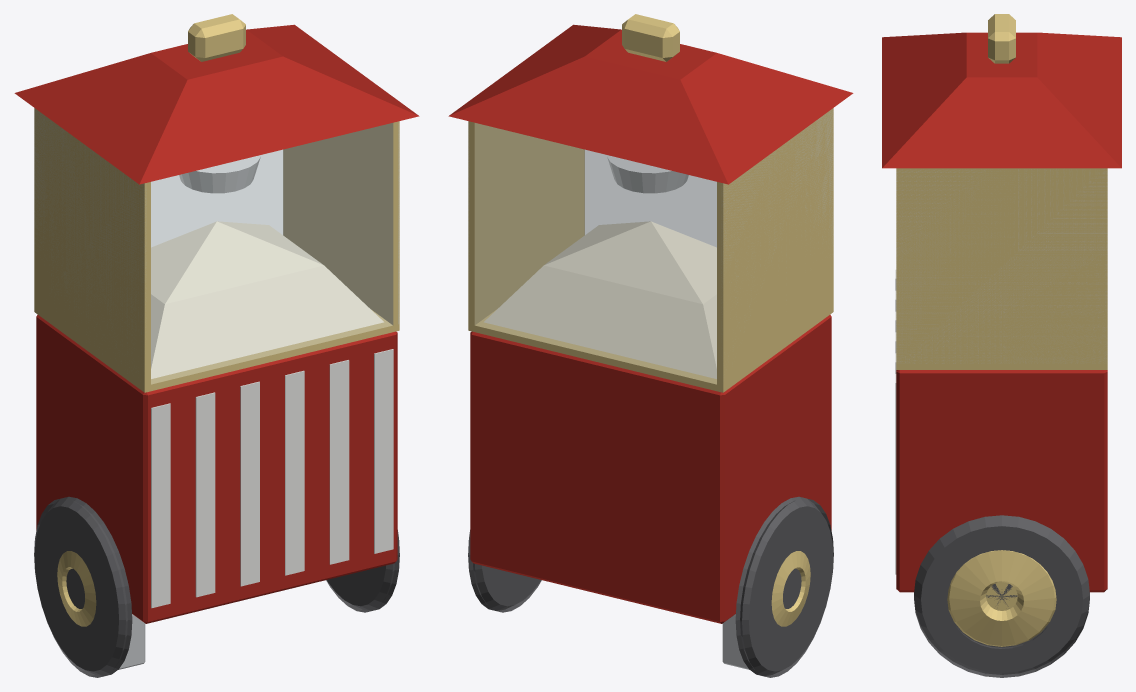
The model's file is carrinho_pipoca.glb.
The picture shows the model from 3 angles, left to right: view 1: azimuth 30°, elevation 25°; view 2: azimuth 150°, elevation 25°; view 3: azimuth 270°, elevation 25°; orthographic projection. The views are drawn at different scales.
Visible parts, largest first — view 1: carrinho_pipoca_tinta_vermelha, carrinho_pipoca_vidro_prateleira, carrinho_pipoca_ouro_hotel, carrinho_pipoca_tinta_branca, carrinho_pipoca_pipoca, carrinho_pipoca_borracha, carrinho_pipoca_inox, carrinho_pipoca_aco; view 2: carrinho_pipoca_tinta_vermelha, carrinho_pipoca_vidro_prateleira, carrinho_pipoca_ouro_hotel, carrinho_pipoca_pipoca, carrinho_pipoca_borracha, carrinho_pipoca_inox, carrinho_pipoca_aco; view 3: carrinho_pipoca_tinta_vermelha, carrinho_pipoca_ouro_hotel, carrinho_pipoca_borracha, carrinho_pipoca_vidro_prateleira, carrinho_pipoca_tinta_branca.
Boxes of the visible parts, x1=… form: carrinho_pipoca_tinta_vermelha: x1=14, y1=24, x2=419, y2=623; carrinho_pipoca_vidro_prateleira: x1=34, y1=109, x2=399, y2=384; carrinho_pipoca_ouro_hotel: x1=34, y1=14, x2=399, y2=626; carrinho_pipoca_tinta_branca: x1=151, y1=349, x2=393, y2=608; carrinho_pipoca_pipoca: x1=151, y1=221, x2=383, y2=378; carrinho_pipoca_borracha: x1=34, y1=496, x2=399, y2=677; carrinho_pipoca_inox: x1=179, y1=157, x2=260, y2=193; carrinho_pipoca_aco: x1=118, y1=614, x2=145, y2=669; carrinho_pipoca_tinta_vermelha: x1=448, y1=24, x2=853, y2=623; carrinho_pipoca_vidro_prateleira: x1=468, y1=110, x2=833, y2=384; carrinho_pipoca_ouro_hotel: x1=468, y1=14, x2=833, y2=626; carrinho_pipoca_pipoca: x1=484, y1=221, x2=716, y2=378; carrinho_pipoca_borracha: x1=468, y1=496, x2=833, y2=677; carrinho_pipoca_inox: x1=607, y1=157, x2=688, y2=193; carrinho_pipoca_aco: x1=722, y1=614, x2=749, y2=669; carrinho_pipoca_tinta_vermelha: x1=882, y1=32, x2=1121, y2=592; carrinho_pipoca_ouro_hotel: x1=896, y1=14, x2=1107, y2=646; carrinho_pipoca_borracha: x1=914, y1=515, x2=1089, y2=677; carrinho_pipoca_vidro_prateleira: x1=896, y1=169, x2=1107, y2=363; carrinho_pipoca_tinta_branca: x1=895, y1=269, x2=896, y2=574.
Size of the model in its own units: 0.9 by 1.85 by 0.68.
